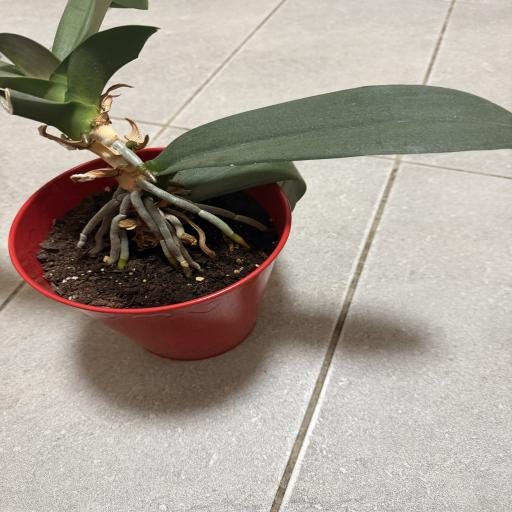Plant Pot: (9, 149, 293, 362)
